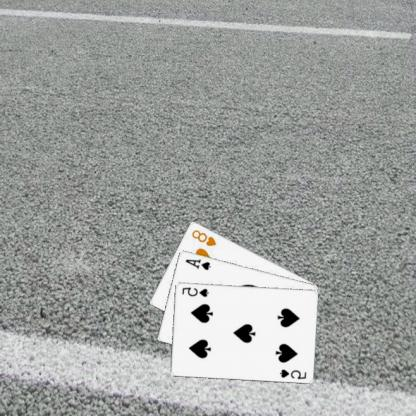5S: (278, 366, 309, 380), (181, 284, 211, 298)
8H: (191, 227, 220, 247)
AS: (184, 256, 214, 271)
